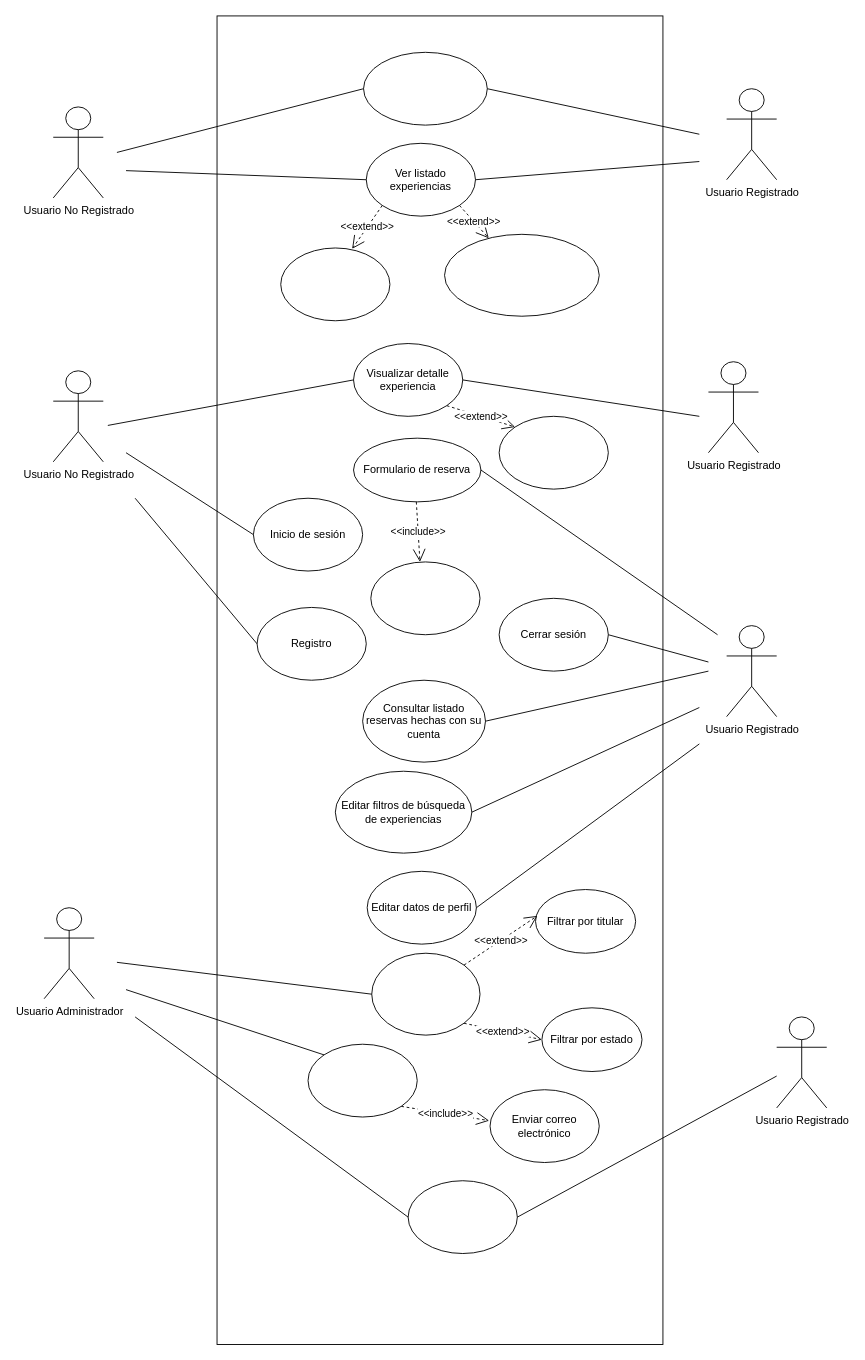
The diagram is 865 pixels wide and 1360 high, and some of its shapes have lost their labels. Each missing label, with the centre of its shape:
Confirmar reservar: pixel 362 1080
Consultar disponibilidad de fechas: pixel 553 452
Creación reserva: pixel 425 598
Filtrar experiencias por filtros de perfil: pixel 521 274
Filtrar experiencias por filtros generales: pixel 335 284
Ver detalle reserva: pixel 462 1217
Ver listado ciudades: pixel 425 88
Ver listado de todas las reservas: pixel 425 993
